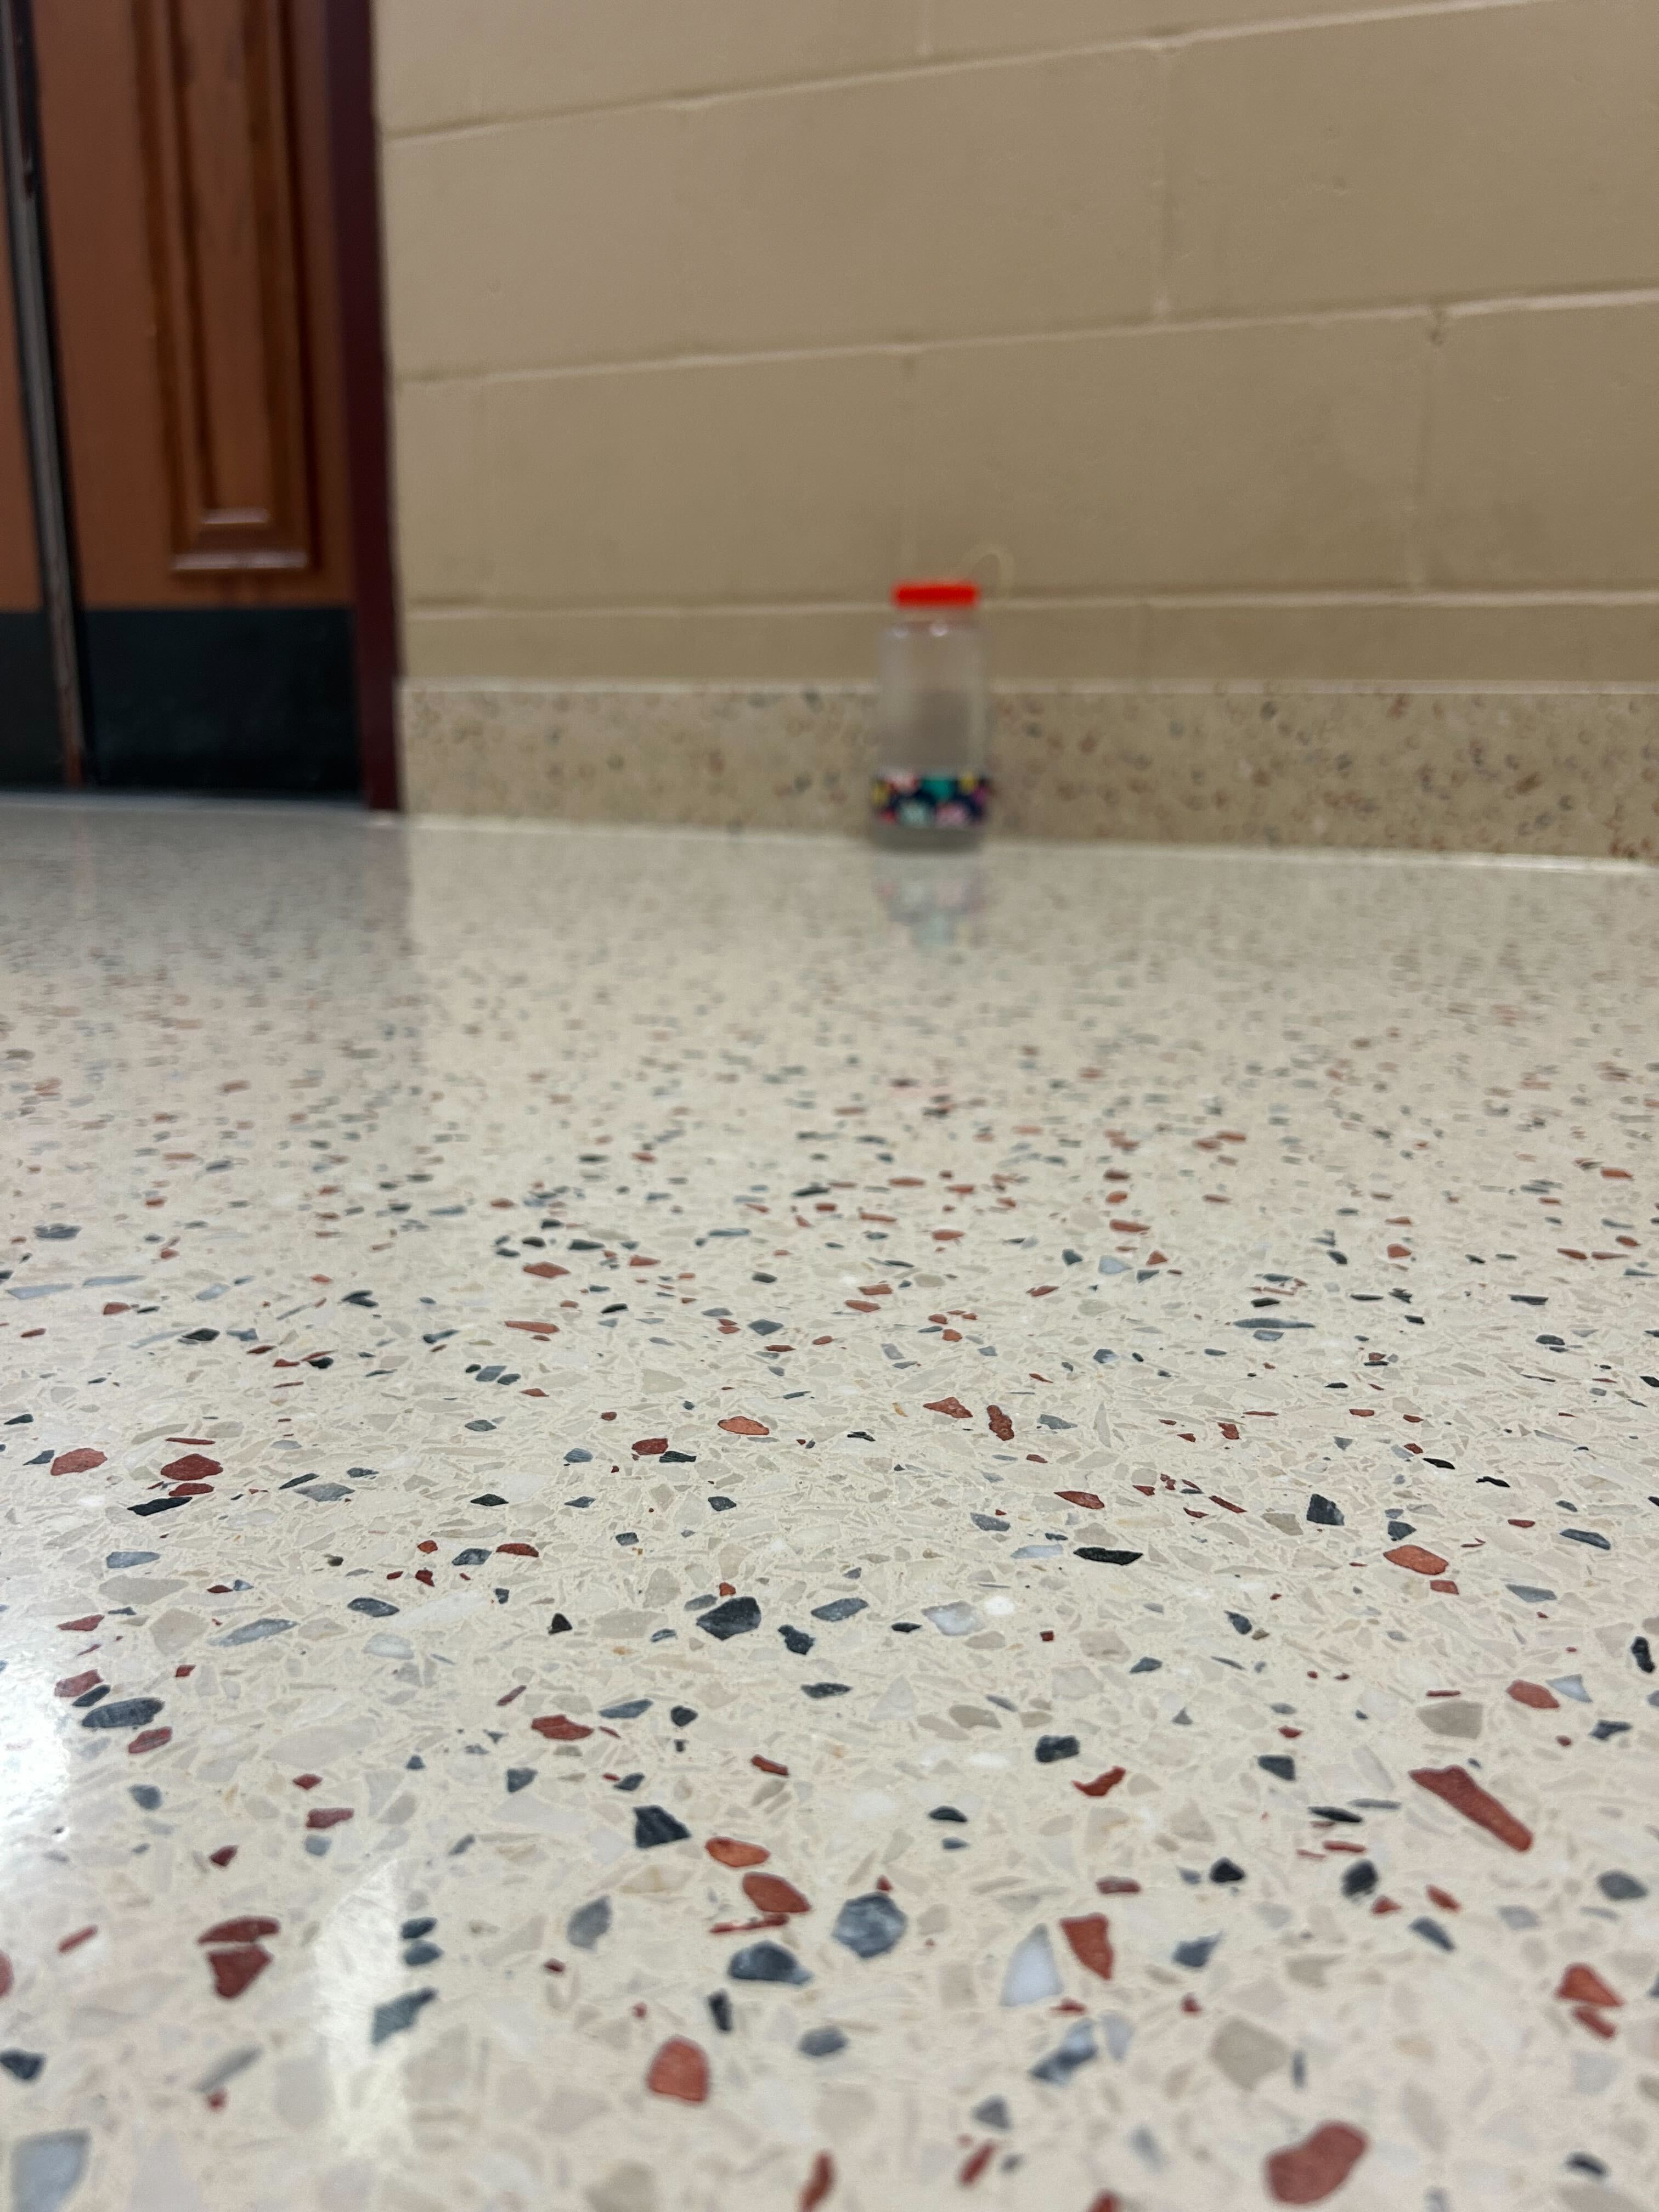bottle: (864, 528, 1012, 862)
